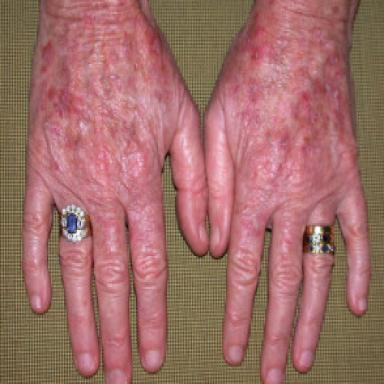eczema: (39, 2, 167, 183), (219, 1, 350, 155)
